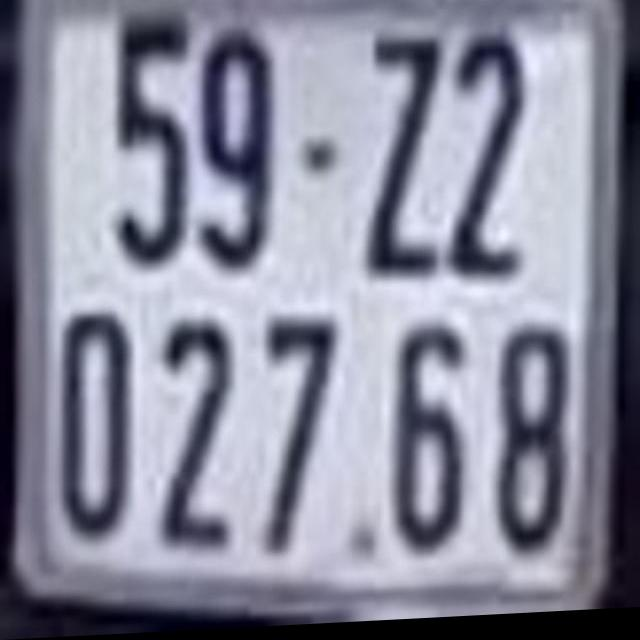0: (60, 309, 128, 542)
2: (454, 40, 520, 282), (163, 316, 224, 550)
5: (117, 10, 190, 260)
6: (396, 324, 468, 555)
7: (264, 313, 338, 549)
8: (498, 329, 566, 557)
9: (201, 33, 267, 276)
Z: (368, 34, 437, 280)
